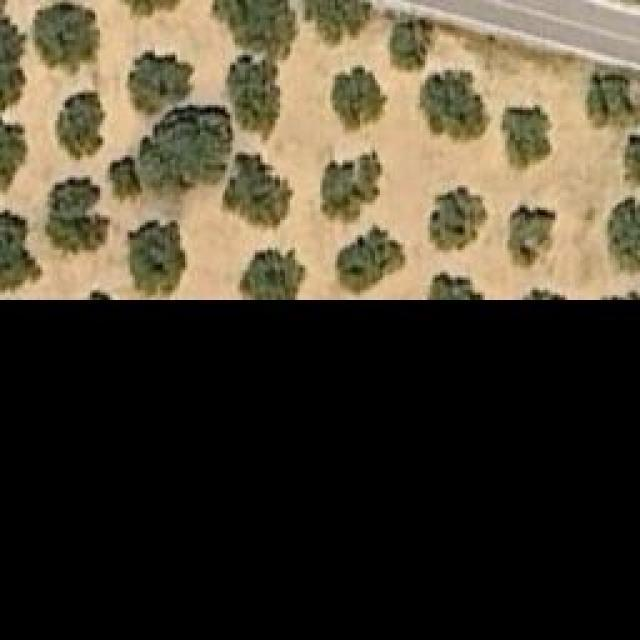Tree: (143, 103, 233, 206), (418, 70, 493, 148), (335, 218, 408, 298), (223, 153, 293, 233), (43, 175, 108, 258), (213, 0, 298, 60), (320, 153, 383, 233), (125, 50, 195, 120), (228, 53, 281, 138), (128, 223, 188, 296), (330, 65, 385, 135), (430, 185, 488, 250), (587, 62, 640, 132), (35, 5, 95, 65), (238, 250, 308, 298), (0, 210, 40, 293), (57, 92, 105, 160), (500, 105, 550, 170), (0, 0, 28, 115), (305, 0, 370, 48), (507, 205, 555, 268), (0, 115, 30, 199), (607, 197, 640, 272), (390, 15, 435, 70), (427, 270, 485, 298), (110, 155, 138, 203), (622, 133, 640, 193), (118, 0, 183, 15)
